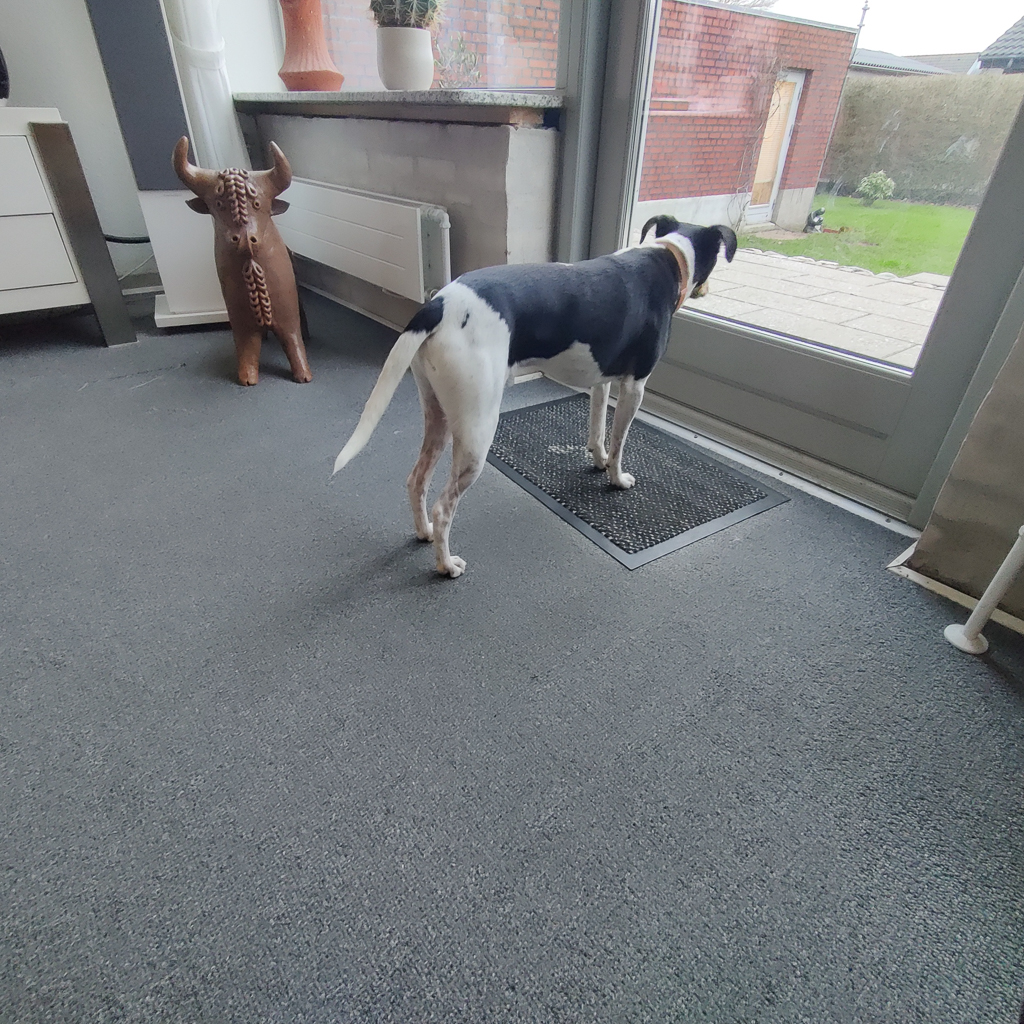Cattle: (156, 128, 332, 393)
Dog: (315, 205, 751, 606)
Humanoid: (269, 0, 350, 78), (799, 202, 830, 239)
